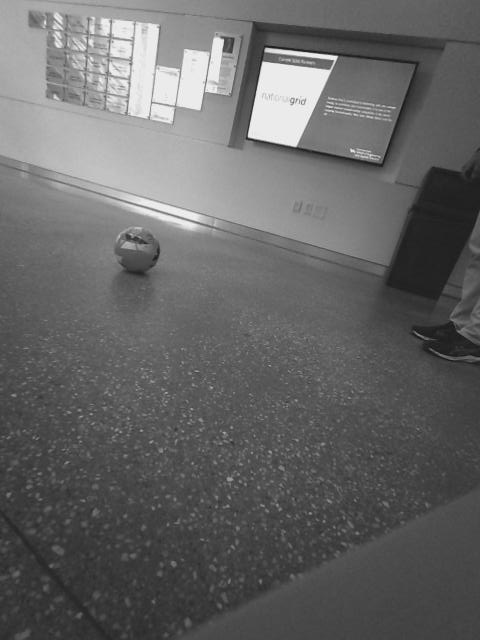ball: (112, 224, 164, 276)
